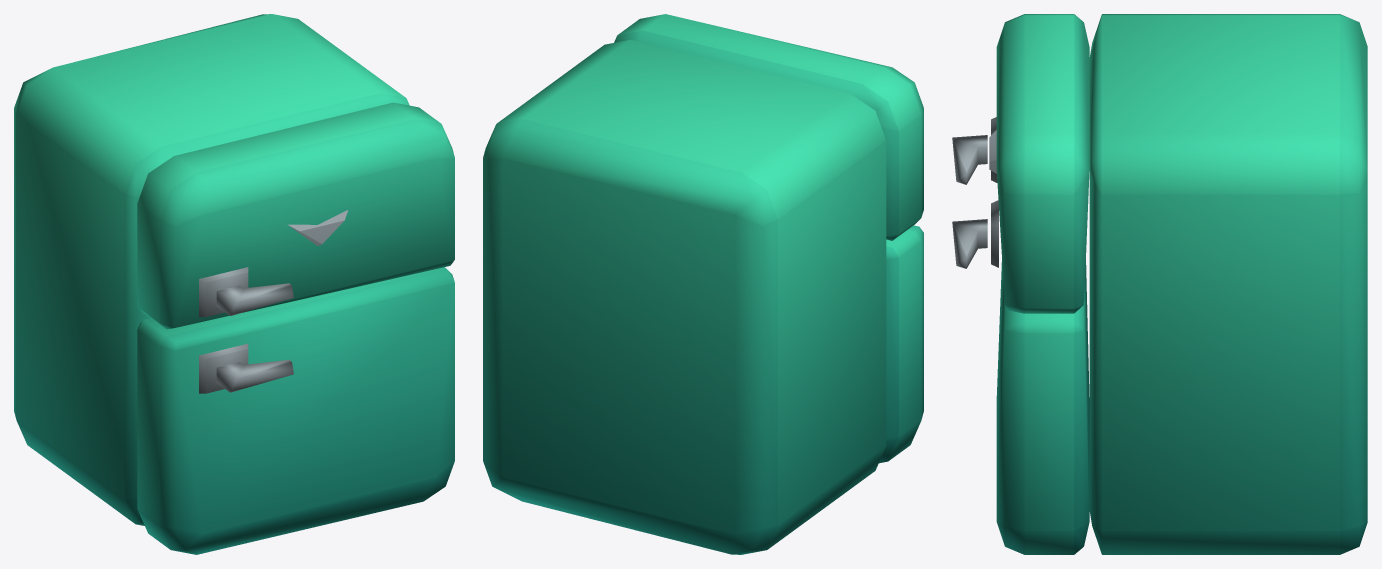
File: cc0-fridge-decorated-lod1.glb
3 renders of one model, left to right at view 1: azimuth 30°, elevation 25°; view 2: azimuth 150°, elevation 25°; view 3: azimuth 270°, elevation 25°, orthographic. The views are drawn at different scales.
Visible parts, largest first — view 1: part_0; view 2: part_0; view 3: part_0.
Boxes of the visible parts, x1=… form: part_0: x1=14, y1=14, x2=454, y2=554; part_0: x1=483, y1=14, x2=923, y2=554; part_0: x1=952, y1=14, x2=1367, y2=554.
Size of the model in its own units: 2 by 2.5 by 2.24.
Materials: 1 (1 with a texture image).
